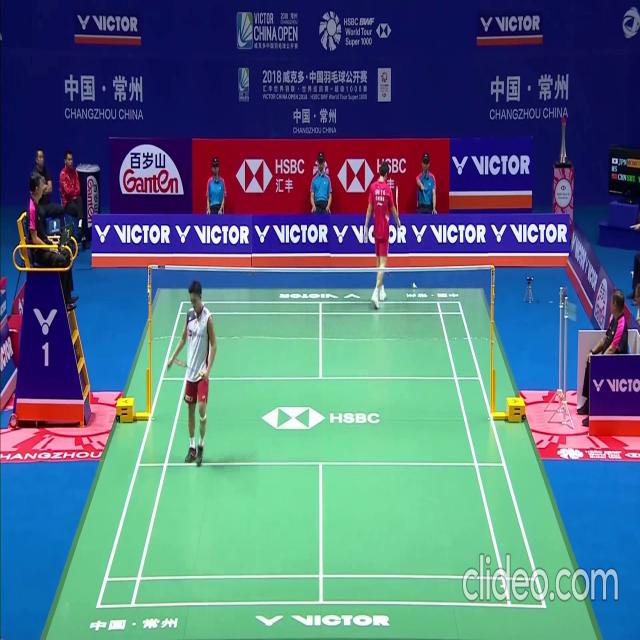Shuttlecock: (413, 282, 418, 289)
